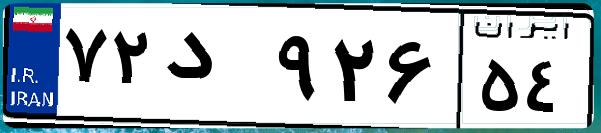2: (330, 28, 385, 110), (110, 28, 158, 98)
4: (525, 38, 570, 115)
5: (475, 38, 525, 113)
6: (385, 28, 445, 110)
7: (57, 26, 110, 100)
9: (270, 28, 330, 110)
د: (158, 20, 270, 120)
